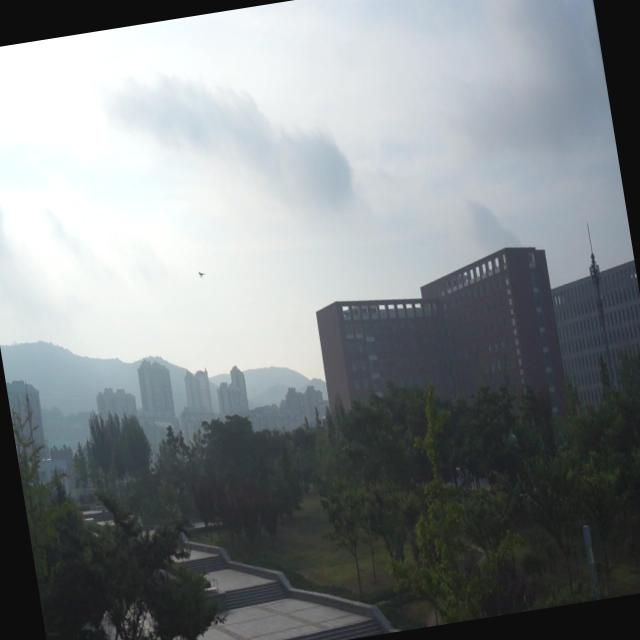drone: (195, 266, 208, 280)
